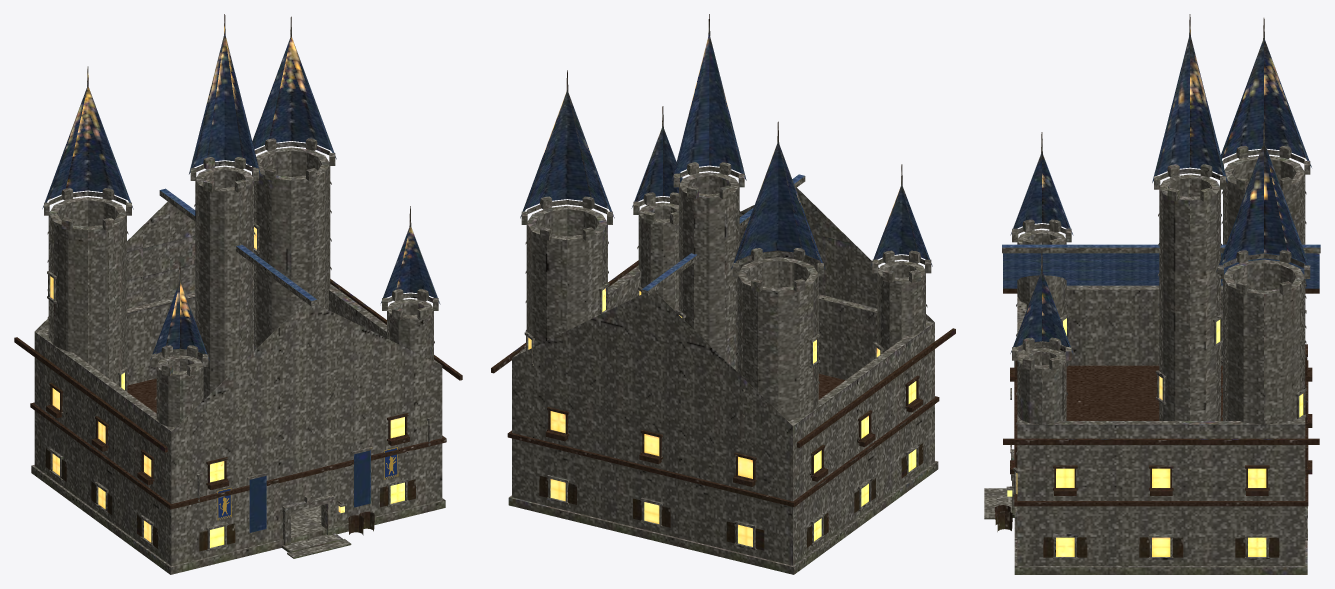
Rendered from bld_mage_card_lod1.glb.
3 views of the same model, side by side, from view 1: azimuth 30°, elevation 25°; view 2: azimuth 150°, elevation 25°; view 3: azimuth 270°, elevation 25° (orthographic). The views are drawn at different scales.
Parts seen in each view (by area): view 1: mage_card; view 2: mage_card; view 3: mage_card.
Boxes of the visible parts, left/top/right/bottom form: mage_card: left=14, top=14, right=462, bottom=574; mage_card: left=491, top=14, right=955, bottom=574; mage_card: left=984, top=14, right=1320, bottom=574.
Size of the model in its own units: 29.85 by 44.71 by 27.8.
1 material, 1 textured.
